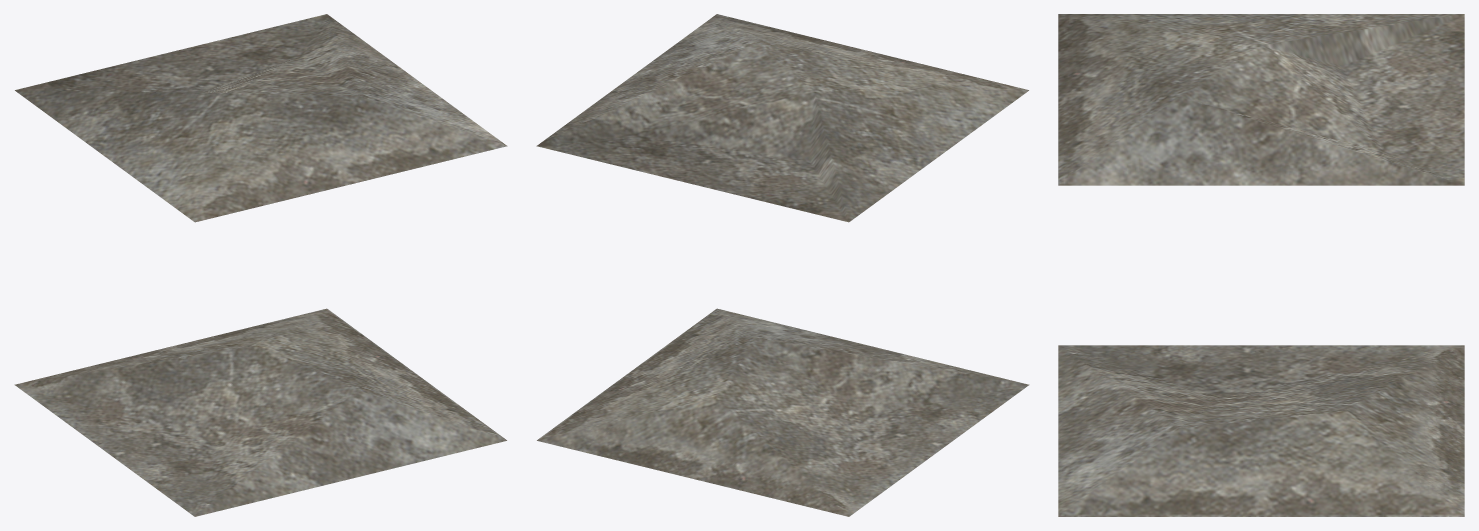
File: floorTileds.obj
3 views of the same model, side by side, from view 1: azimuth 30°, elevation 25°; view 2: azimuth 150°, elevation 25°; view 3: azimuth 270°, elevation 25° (orthographic). The views are drawn at different scales.
Visible parts, largest first — view 1: stile005; view 2: stile005; view 3: stile005.
Boxes of the visible parts, <box> form: stile005: <box>14,14,507,516</box>; stile005: <box>536,14,1029,516</box>; stile005: <box>1058,14,1464,516</box>.
Bounding box in the file's own units: 1 × 1 × 1.
Materials: 1 (1 with a texture image).
